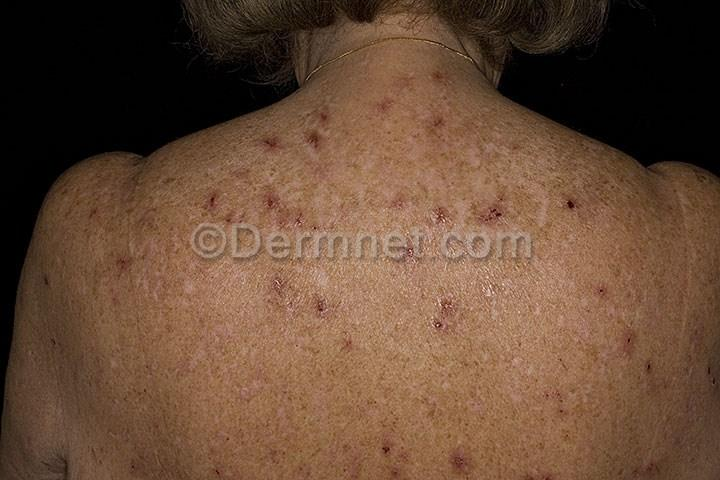Eczema: (612, 324, 672, 392), (405, 283, 471, 342), (256, 265, 309, 314), (440, 444, 514, 479), (96, 249, 157, 285), (353, 423, 401, 467), (460, 197, 522, 227), (255, 123, 294, 164), (366, 88, 408, 125), (330, 331, 374, 366), (554, 182, 589, 221), (197, 183, 232, 220), (582, 278, 623, 307), (302, 123, 334, 159), (275, 210, 327, 229), (426, 105, 453, 141), (314, 287, 340, 323), (419, 61, 450, 90), (80, 199, 114, 224), (309, 100, 339, 128), (374, 186, 408, 209), (261, 187, 290, 208), (427, 203, 446, 224)
